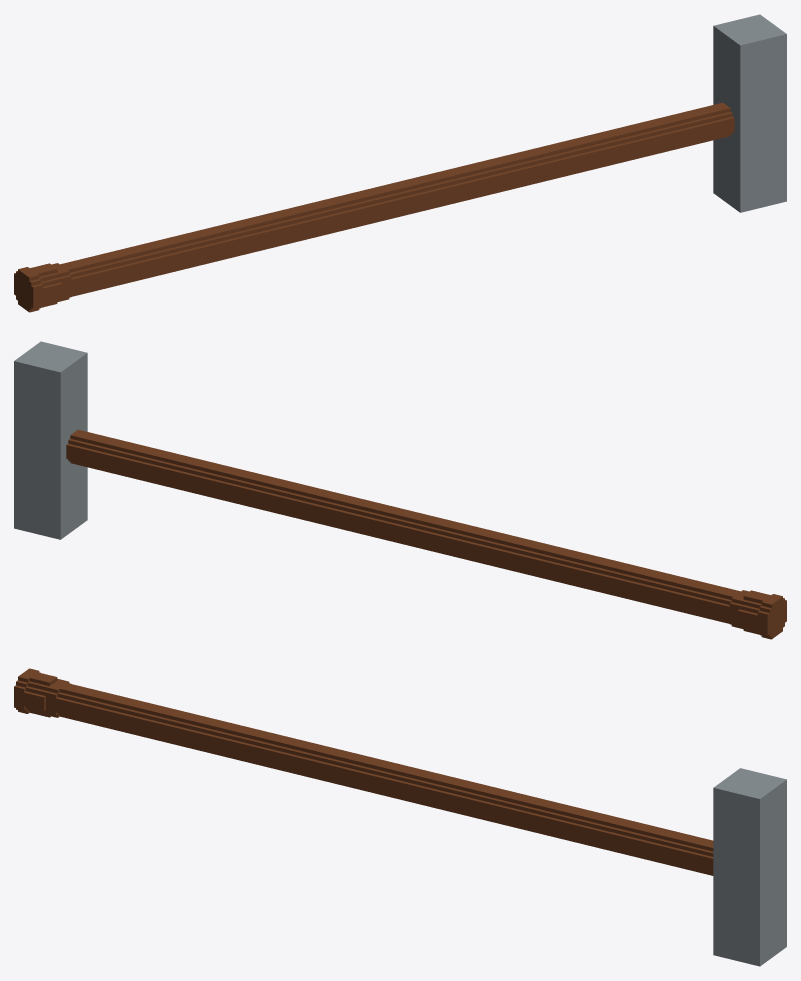
File: sledgehammer.glb
3 views of the same model, one above another, from view 1: azimuth 30°, elevation 25°; view 2: azimuth 150°, elevation 25°; view 3: azimuth 330°, elevation 25° (orthographic).
Parts seen in each view (by area): view 1: sledgehammer:sledgehammer; view 2: sledgehammer:sledgehammer; view 3: sledgehammer:sledgehammer.
Part boxes in pixels (x1,y1,x2,y2): sledgehammer:sledgehammer: [14, 14, 786, 312]; sledgehammer:sledgehammer: [14, 341, 786, 639]; sledgehammer:sledgehammer: [14, 668, 786, 966].
Bounding box in the file's own units: 0.9 × 0.192 × 0.056.
